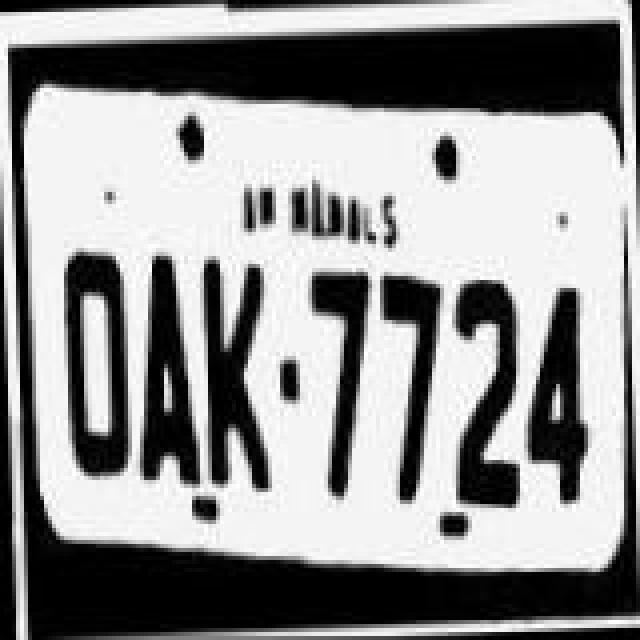2: (444, 268, 528, 516)
4: (514, 276, 594, 516)
7: (302, 260, 382, 504), (370, 264, 450, 508)
A: (124, 246, 200, 494)
K: (192, 250, 276, 498)
O: (48, 246, 132, 490)
